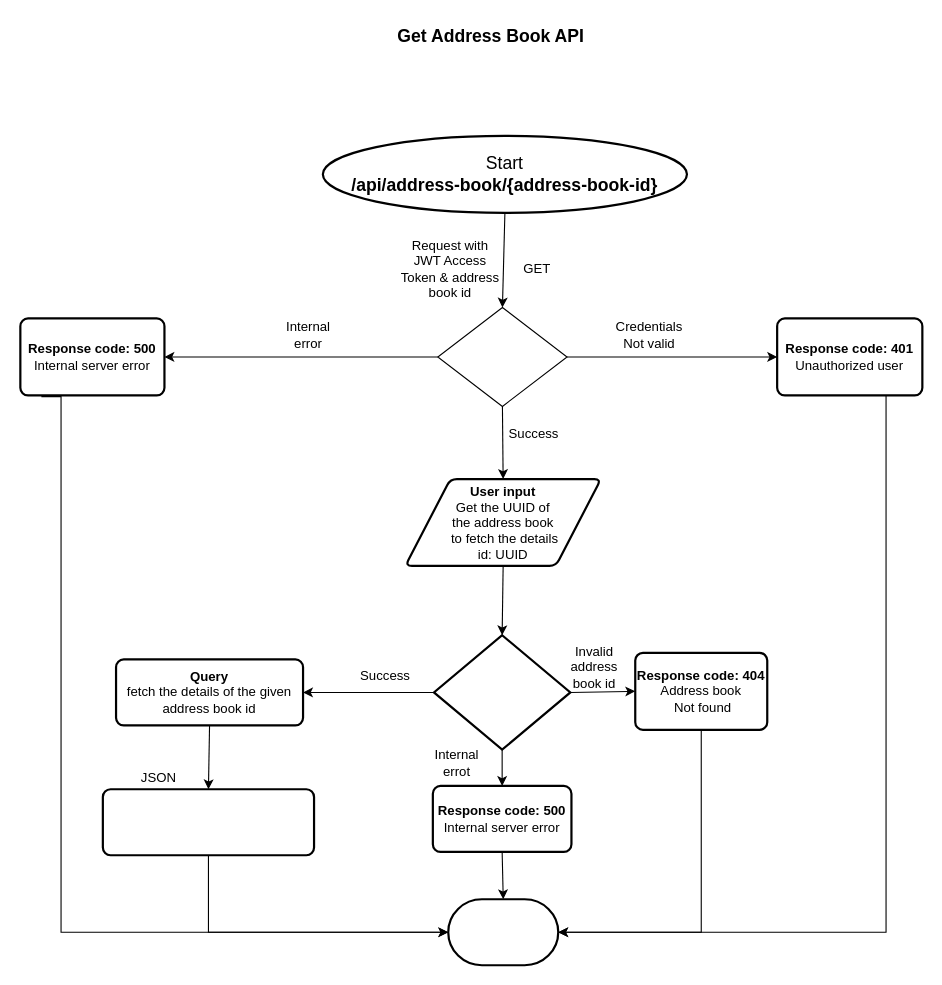
Some shapes in this 942 by 985 pixel diagram are drawn without their labels. Each missing label, with the centre of its shape:
is authorized?: the point at 502,356
Response code: 200 fetch the specified address book details: the point at 208,822
Stop: the point at 503,932
Validate is the address book exists?: the point at 501,692
